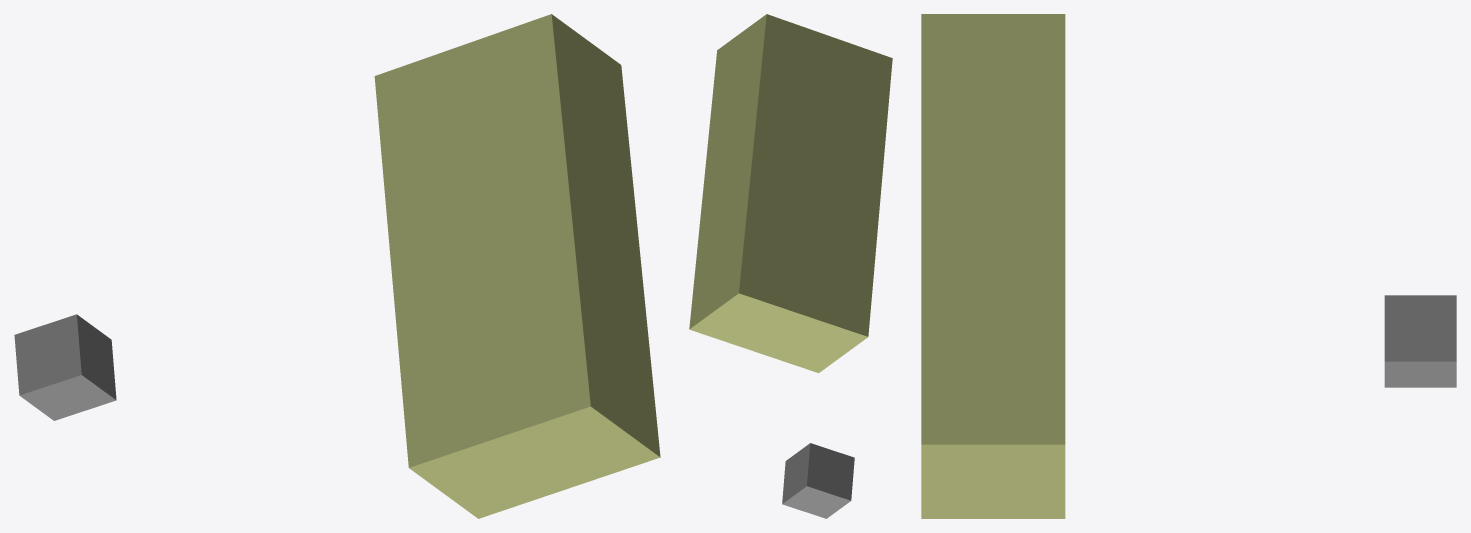
The picture shows the model from 3 angles, left to right: view 1: azimuth 30°, elevation 25°; view 2: azimuth 150°, elevation 25°; view 3: azimuth 270°, elevation 25°; orthographic projection. The views are drawn at different scales.
Visible parts, largest first — view 1: 0_3_0_1_1_1_3_1_0; view 2: 0_3_0_1_1_1_3_1_0; view 3: 0_3_0_1_1_1_3_1_0.
Boxes of the visible parts, <box> form: 0_3_0_1_1_1_3_1_0: <box>14,14,660,518</box>; 0_3_0_1_1_1_3_1_0: <box>689,14,892,518</box>; 0_3_0_1_1_1_3_1_0: <box>921,14,1456,518</box>.
Bounding box in the file's own units: 19.24 × 20.73 × 22.3.
